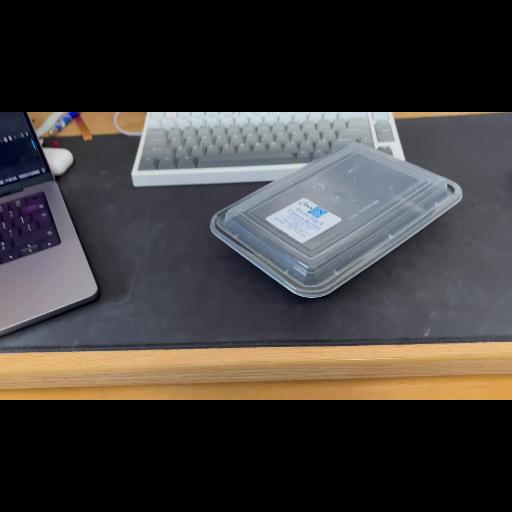rigid_plastic_container: (202, 133, 464, 305)
